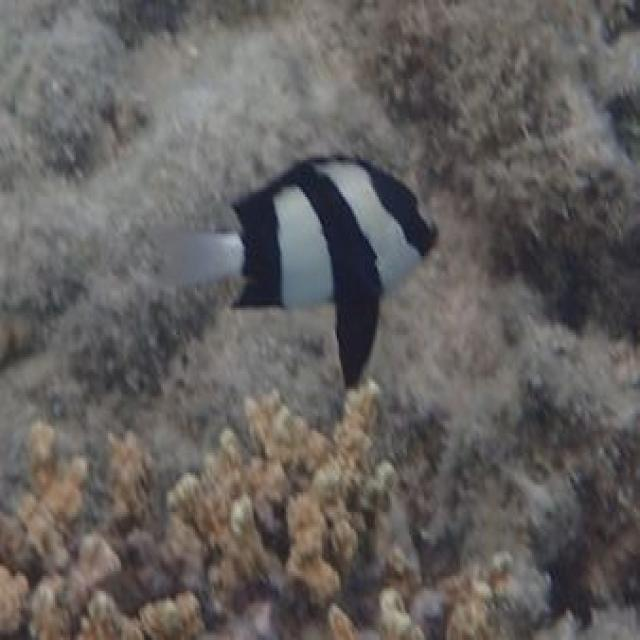ThreeStripedDamselfish: (161, 155, 437, 389)
